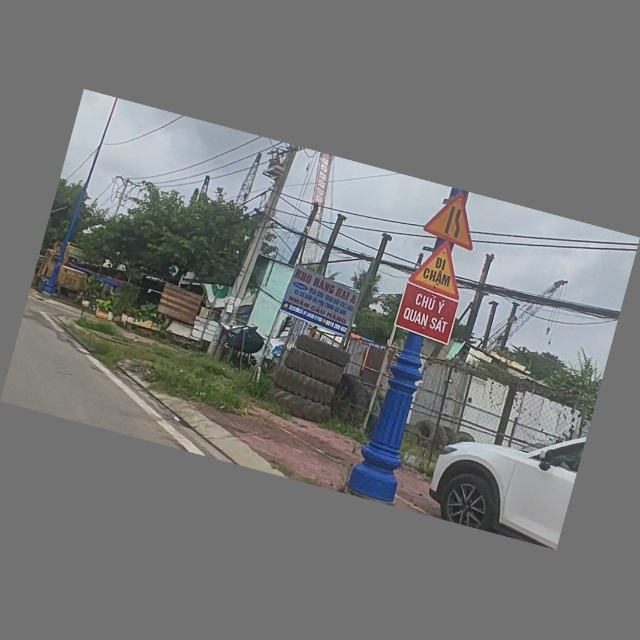W.203c: (422, 186, 487, 251)
W.245a: (408, 236, 474, 302)
